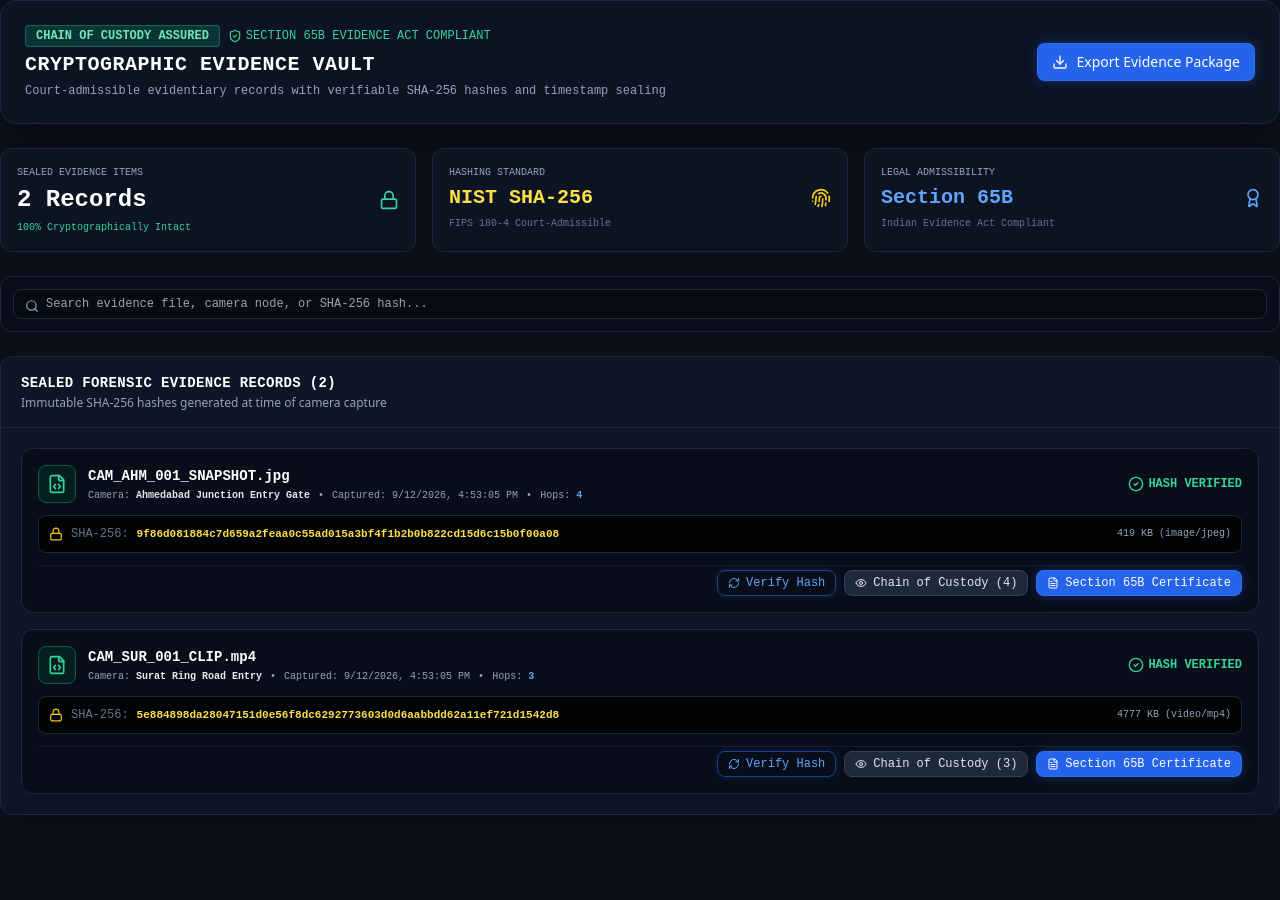
Test: System Health, Forensic Vault & Compliance Audit UI (Module 28) › EvidencePage Component › opens Chain of Custody detail modal
Step 1. Click the button "Chain of Custody (4)" → (936, 583), box [844,570,1028,596]
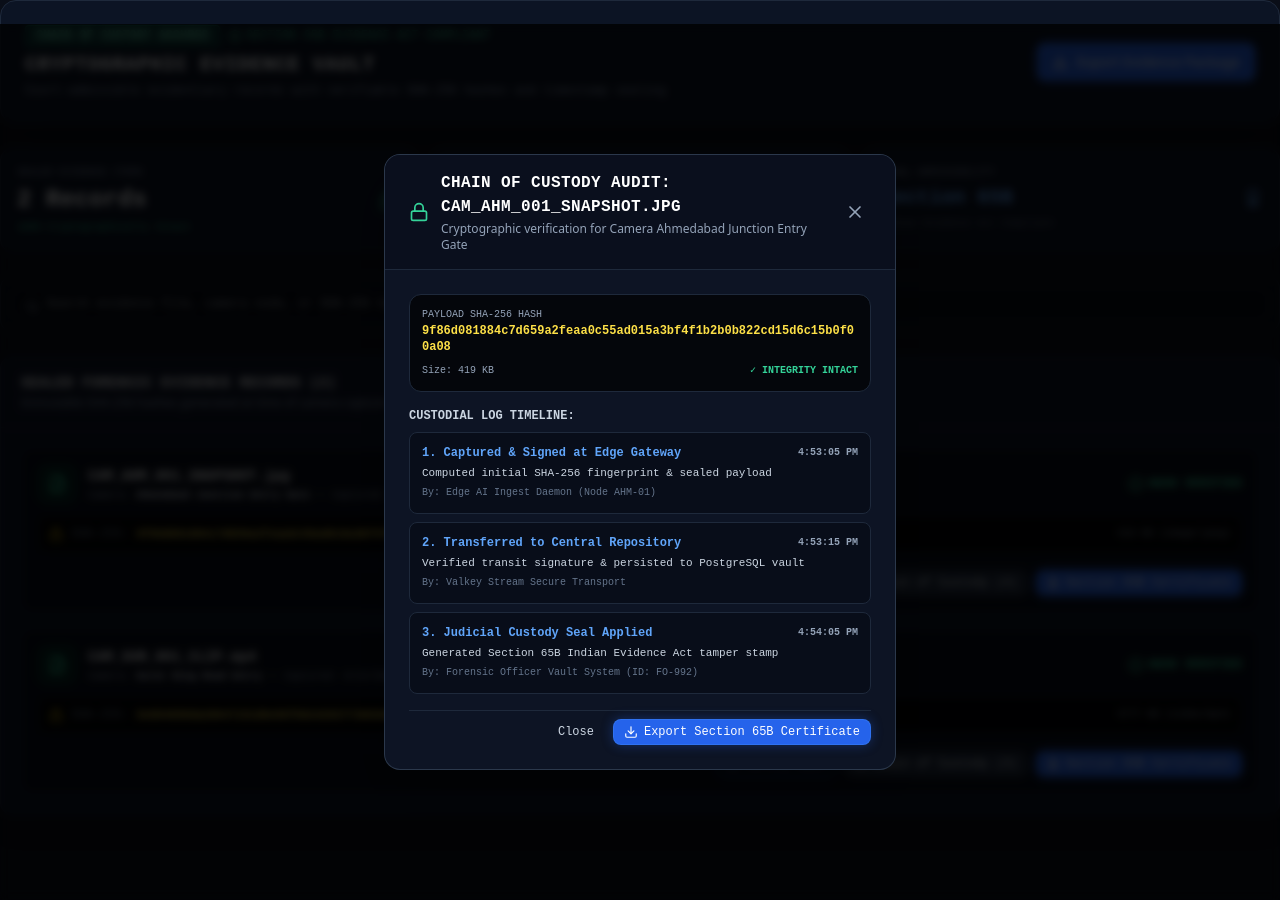
expect the heading "CHAIN OF CUSTODY AUDIT: CAM_AHM_001_SNAPSHOT.jpg" is shown: met, box [441,174,681,216]
expect the text "PAYLOAD SHA-256 HASH" is shown: met, box [422,309,542,320]
